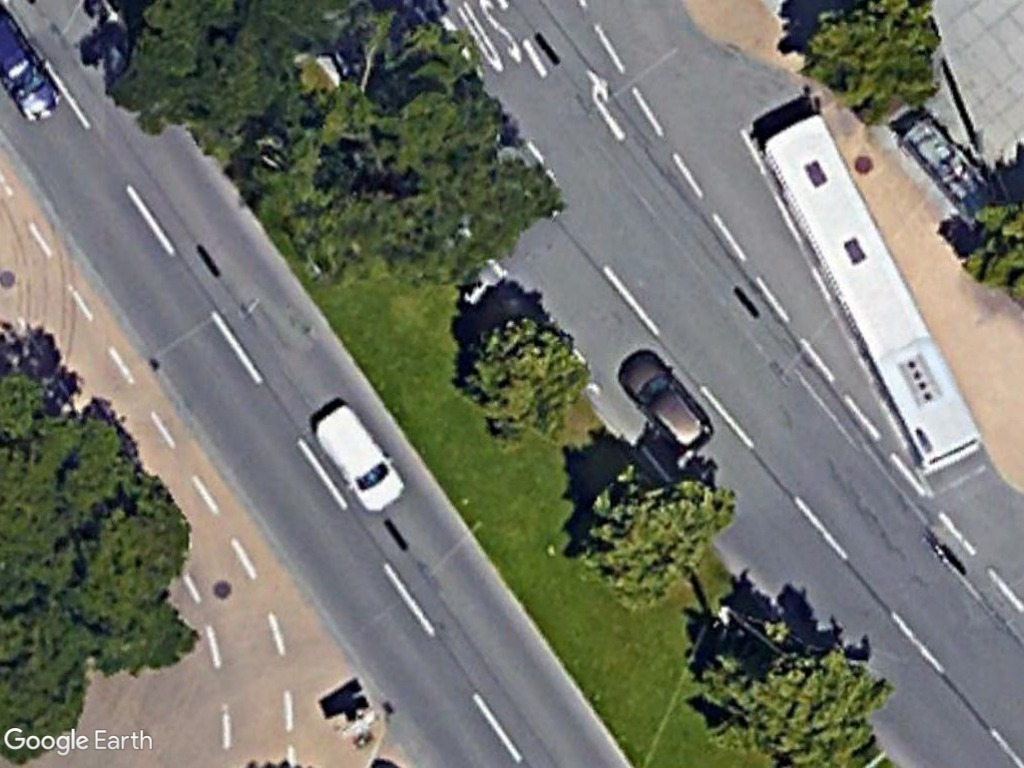bus: (750, 112, 990, 480)
car: (614, 346, 718, 458)
van: (306, 402, 410, 516)
